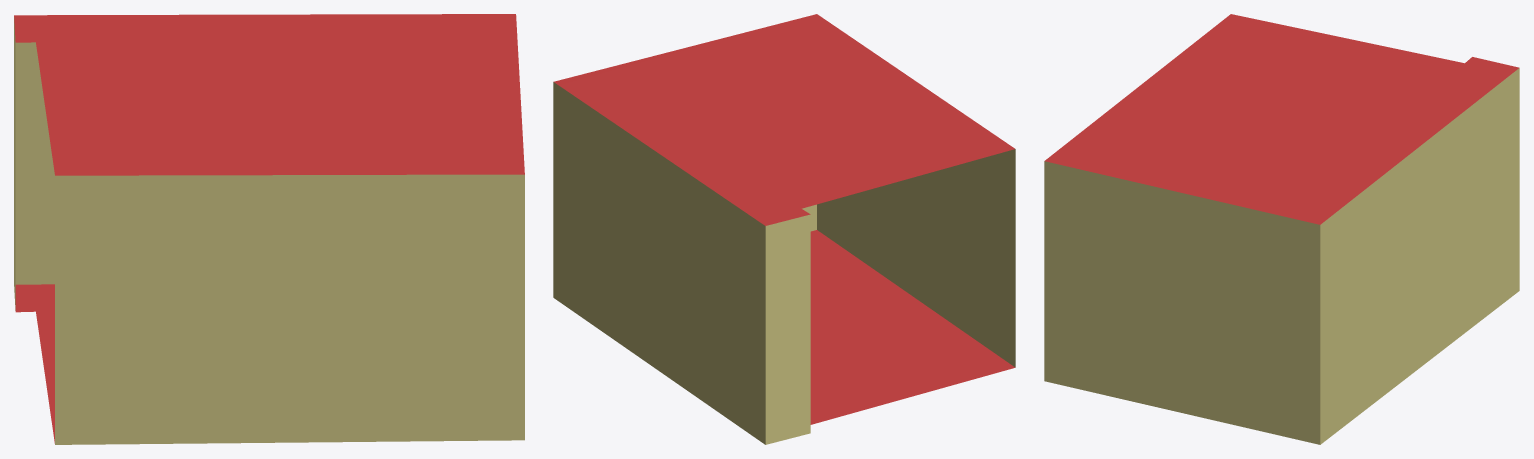
3 renders of one model, left to right at view 1: azimuth 30°, elevation 25°; view 2: azimuth 150°, elevation 25°; view 3: azimuth 270°, elevation 25°, orthographic. The views are drawn at different scales.
Parts seen in each view (by area): view 1: group_4, group_3, group_5; view 2: group_4, group_3, group_5; view 3: group_4, group_3.
Boxes of the visible parts, x1,y1,x2,y2 form: group_4: (14,17,524,444); group_3: (14,14,524,175); group_5: (15,284,54,443); group_4: (553,82,1015,444); group_3: (553,14,1014,225); group_5: (810,230,1015,424); group_4: (1044,68,1519,444); group_3: (1044,14,1519,224).
Bounding box in the file's own units: 14.18 × 13.7 × 7.09.
